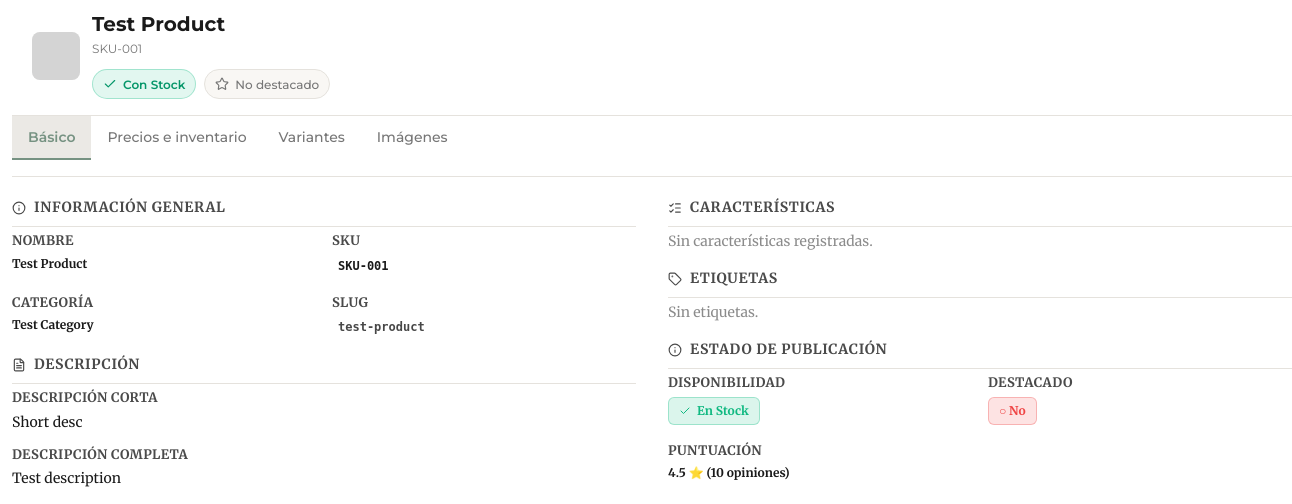
Test case: ProductDetailPanel - Delete Confirmation Modal › should toggle inStock status when status button is clicked
The width and height of the screenshot is (1292, 504).
Click the button "Con Stock".
click(144, 84)  # box [92,69,196,99]
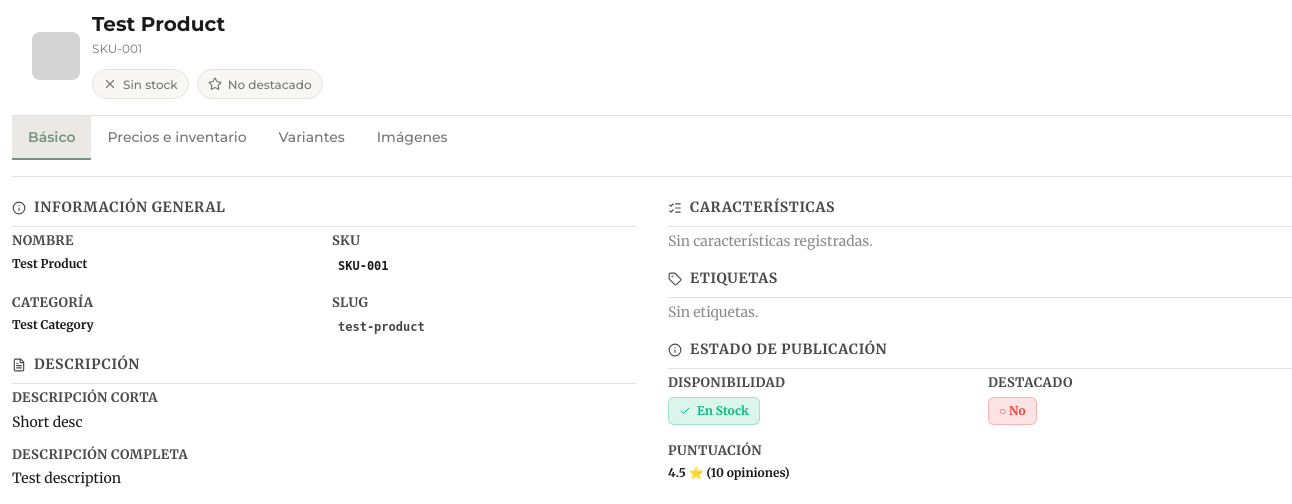
expect the button named "Con Stock" reads "Sin stock": met, box [92,69,189,99]
